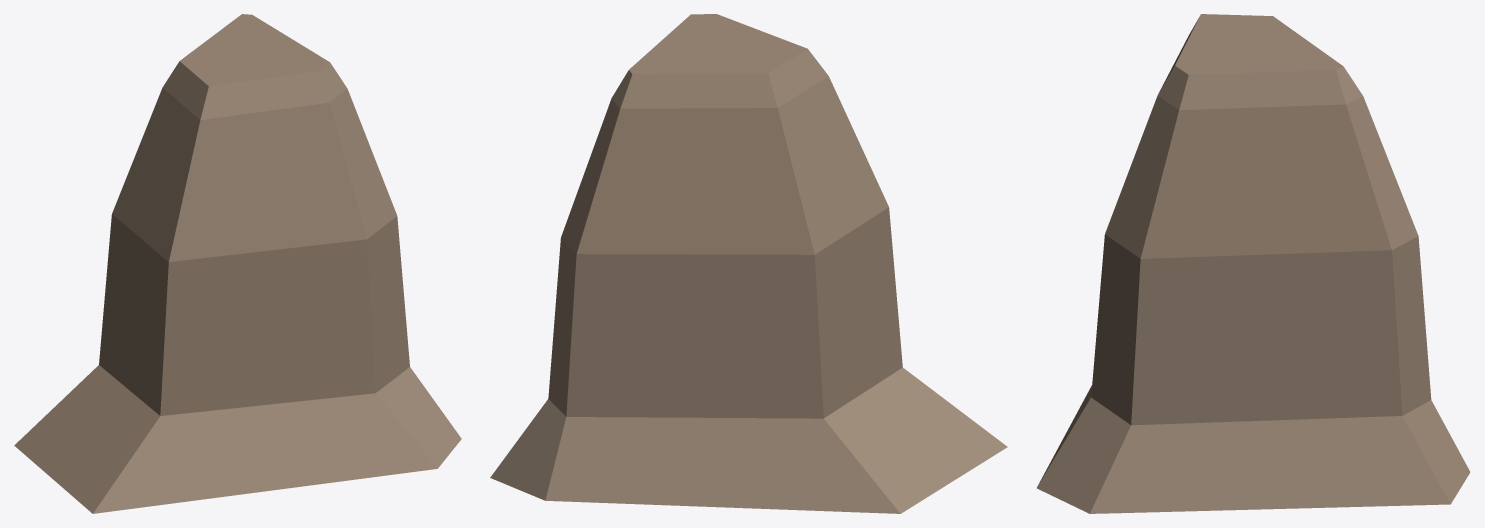
The model's file is mountain2.glb.
3 views of the same model, side by side, from view 1: azimuth 30°, elevation 25°; view 2: azimuth 150°, elevation 25°; view 3: azimuth 270°, elevation 25° (orthographic). The views are drawn at different scales.
Visible parts, largest first — view 1: Cylinder.041; view 2: Cylinder.041; view 3: Cylinder.041.
Boxes of the visible parts, x1,y1,x2,y2 form: Cylinder.041: [14, 14, 461, 513]; Cylinder.041: [490, 14, 1007, 513]; Cylinder.041: [1037, 14, 1470, 513].
Bounding box in the file's own units: 25.91 × 25.49 × 25.47.
